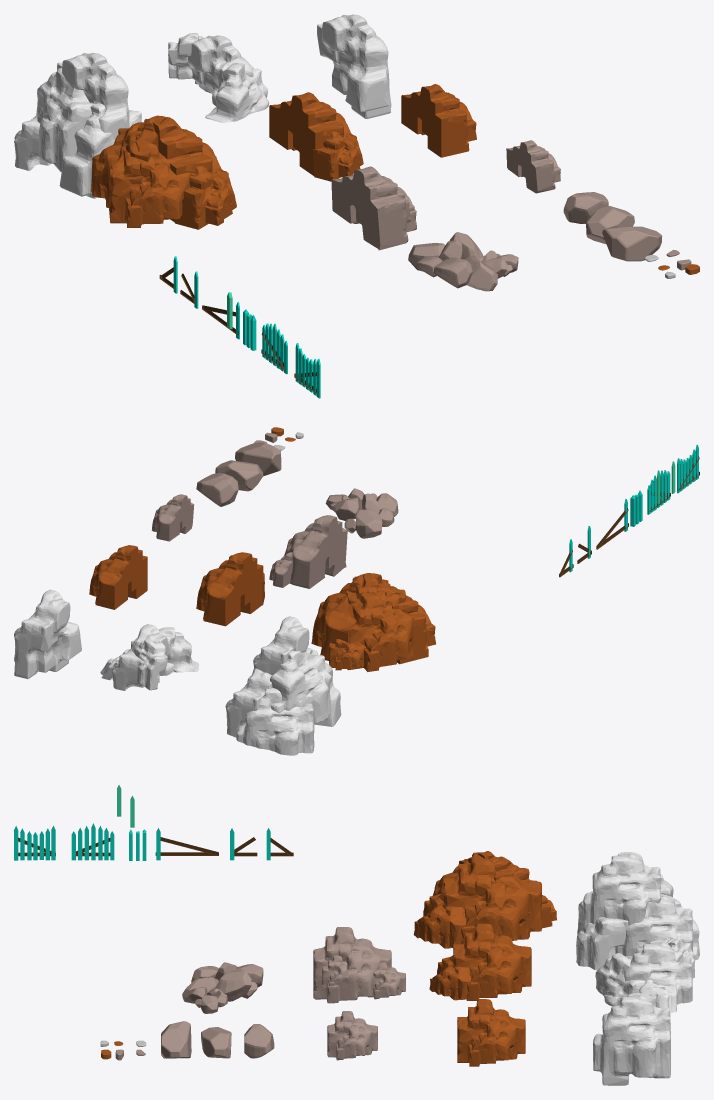
The model's file is AllRoks.fbx.
3 views of the same model, one above another, from view 1: azimuth 30°, elevation 25°; view 2: azimuth 150°, elevation 25°; view 3: azimuth 270°, elevation 25° (orthographic). The views are drawn at different scales.
Parts seen in each view (by area): view 1: MixOfRoks_2.007, Cube.005, Cube.003, MixOfRoks_2.001, Cube.004, MixOfRocks_1.001, BigRoks_1.005, MixOfRoks_2.002, MixOfRocks_1.003, BigRoks_1.001, BigRoks_2.001, BigRoks_1.002 (+2 smaller); view 2: Cube.005, MixOfRoks_2.007, Cube.004, Cube.003, MixOfRocks_1.001, MixOfRoks_2.001, MixOfRoks_2.002, BigRoks_1.005, MixOfRocks_1.003, BigRoks_1.001, BigRoks_1.002, BigRoks_2.001 (+2 smaller); view 3: Cube.005, MixOfRoks_2.007, Cube.004, MixOfRoks_2.001, Cube.003, MixOfRocks_1.001, MixOfRoks_2.002, BigRoks_1.005, MixOfRocks_1.003, VerticalStick.008, BigRoks_1.001, VerticalStick.011 (+2 smaller).
Boxes of the visible parts, bbox=[...] form: MixOfRoks_2.007: bbox=[91, 115, 236, 229]; Cube.005: bbox=[14, 52, 141, 198]; Cube.003: bbox=[168, 33, 269, 122]; MixOfRoks_2.001: bbox=[269, 92, 363, 181]; Cube.004: bbox=[317, 14, 391, 118]; MixOfRocks_1.001: bbox=[331, 166, 416, 250]; BigRoks_1.005: bbox=[408, 232, 518, 291]; MixOfRoks_2.002: bbox=[401, 84, 476, 157]; MixOfRocks_1.003: bbox=[506, 140, 560, 193]; BigRoks_1.001: bbox=[602, 226, 662, 261]; BigRoks_2.001: bbox=[586, 206, 634, 243]; BigRoks_1.002: bbox=[563, 192, 608, 223]; Cube.005: bbox=[225, 616, 341, 755]; MixOfRoks_2.007: bbox=[311, 573, 435, 671]; Cube.004: bbox=[14, 589, 81, 679]; Cube.003: bbox=[100, 624, 199, 690]; MixOfRocks_1.001: bbox=[269, 515, 347, 588]; MixOfRoks_2.001: bbox=[196, 552, 264, 626]; MixOfRoks_2.002: bbox=[89, 545, 147, 609]; BigRoks_1.005: bbox=[325, 488, 398, 538]; MixOfRocks_1.003: bbox=[151, 494, 194, 541]; BigRoks_1.001: bbox=[235, 442, 281, 476]; BigRoks_1.002: bbox=[196, 472, 238, 506]; BigRoks_2.001: bbox=[215, 460, 263, 491]; Cube.005: bbox=[576, 852, 699, 970]; MixOfRoks_2.007: bbox=[413, 851, 556, 948]; Cube.004: bbox=[593, 993, 670, 1085]; MixOfRoks_2.001: bbox=[429, 923, 531, 1000]; Cube.003: bbox=[595, 938, 694, 1012]; MixOfRocks_1.001: bbox=[313, 927, 405, 1003]; MixOfRoks_2.002: bbox=[457, 999, 525, 1066]; BigRoks_1.005: bbox=[182, 962, 263, 1013]; MixOfRocks_1.003: bbox=[327, 1011, 377, 1060]; VerticalStick.008: bbox=[71, 823, 114, 860]; BigRoks_1.001: bbox=[161, 1021, 191, 1058]; VerticalStick.011: bbox=[14, 826, 55, 860].
Size of the model in its own units: 3075 by 817 by 4471.
